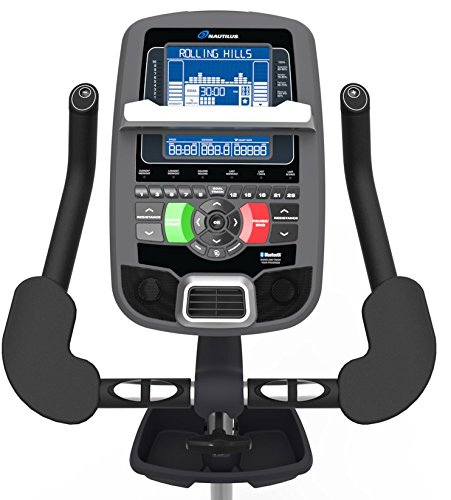gym_bike: (3, 8, 449, 491)
